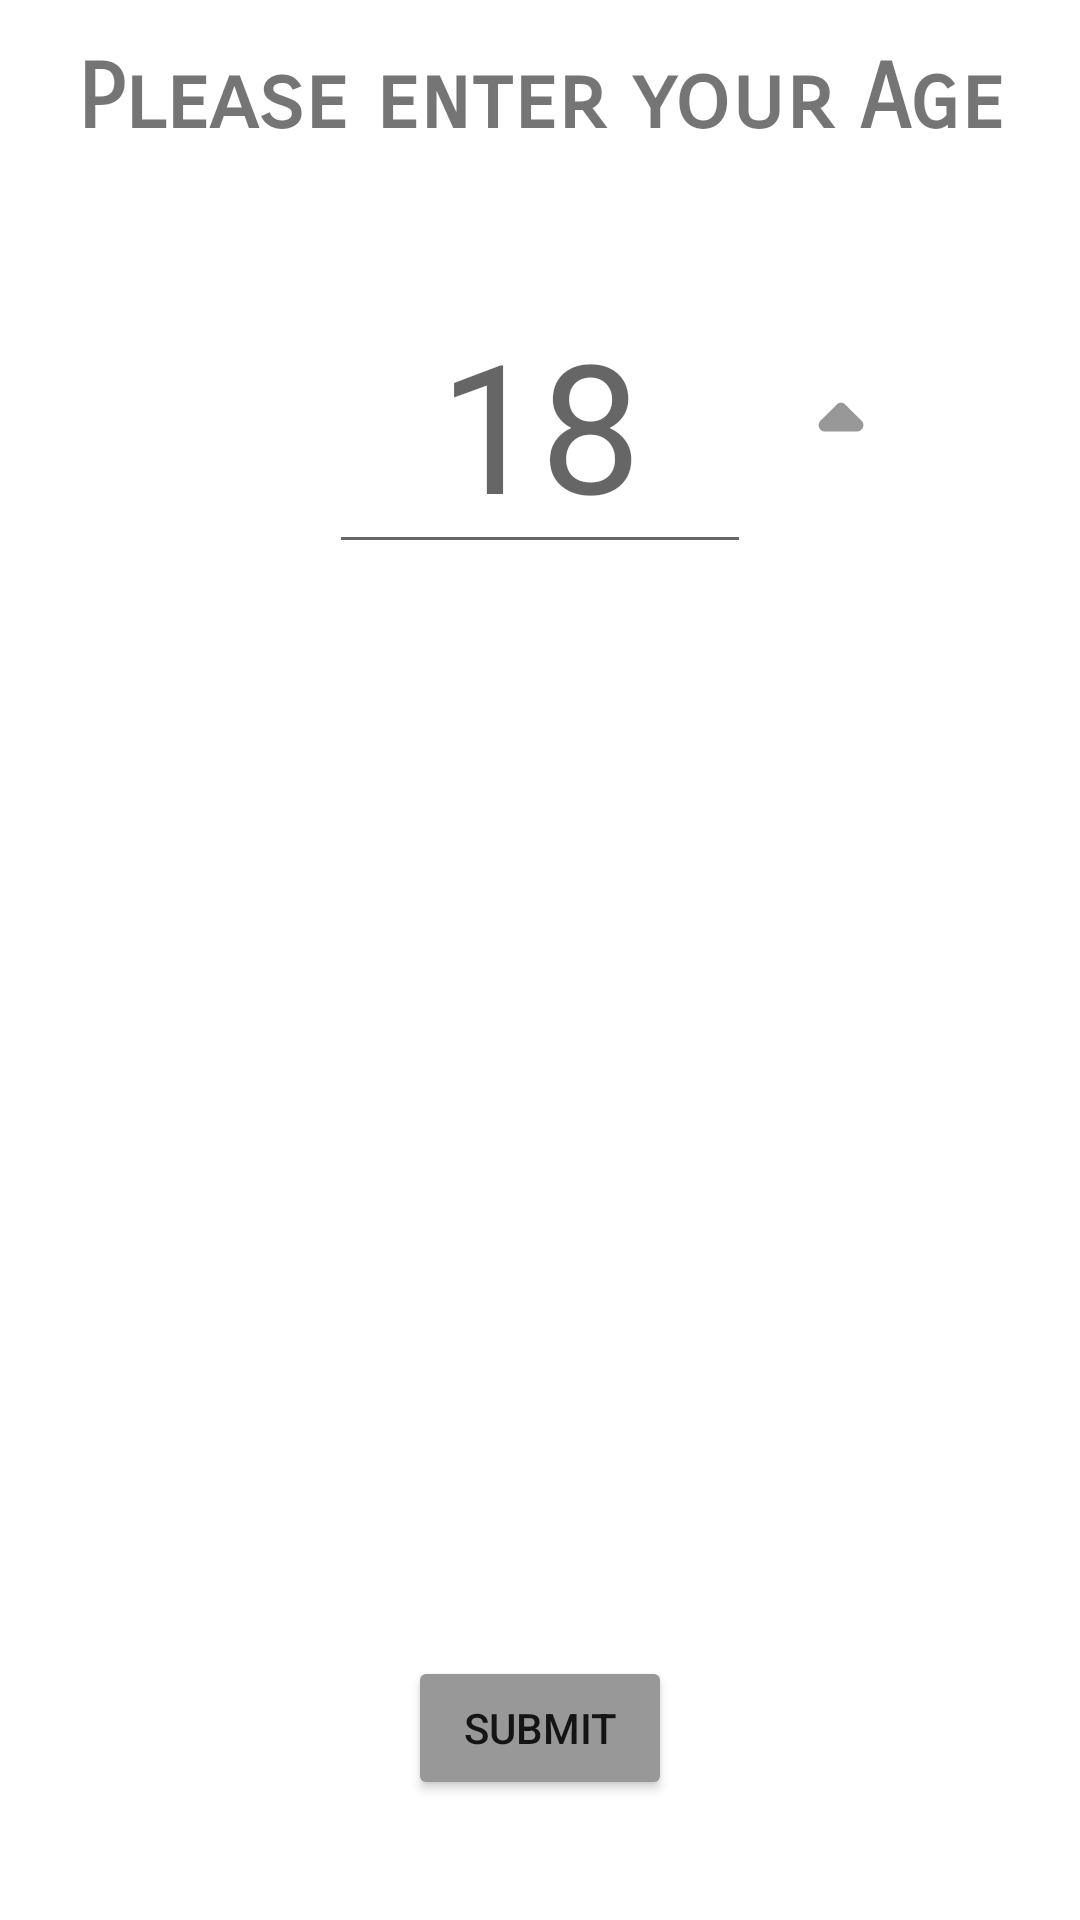

Point at icon controls on the screen. Image size 1080px x 1920px, points as [x,y].
arrow drop up: [841,417]
